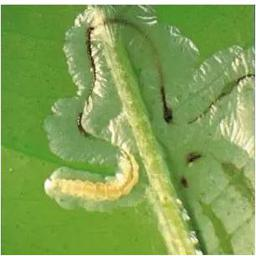liriomyza: (46, 2, 256, 256), (46, 148, 140, 200)
